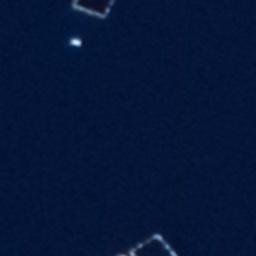square_solid: (111, 223, 184, 256), (62, 1, 124, 24)
